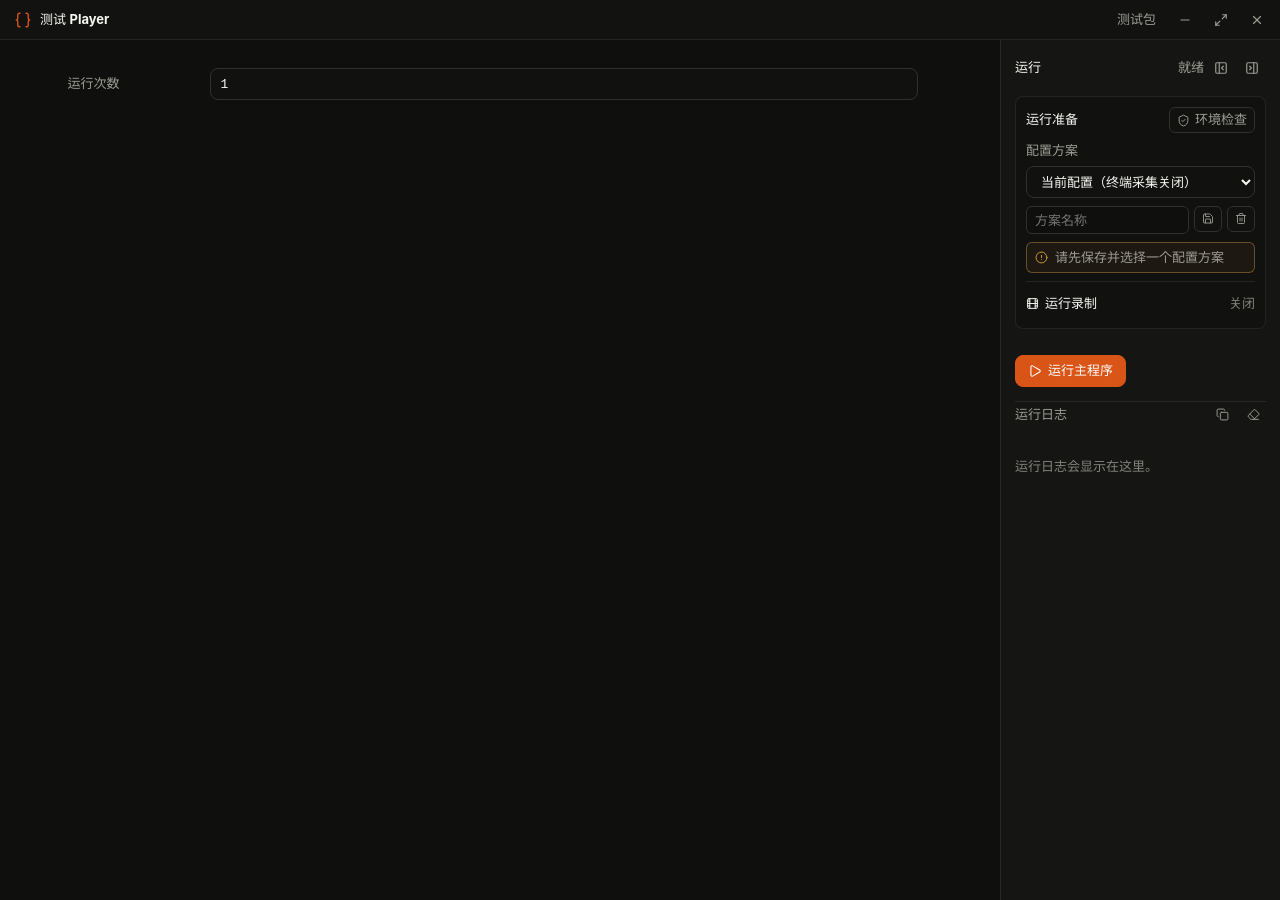
Scenario: VNextPlayerApp error and session lifecycle › 运行失败保留 Player 表单、日志和重试入口
This screenshot has width=1280, height=900.
Click the button "运行主程序".
click(1070, 370)  # box 1015,354 -> 1126,386
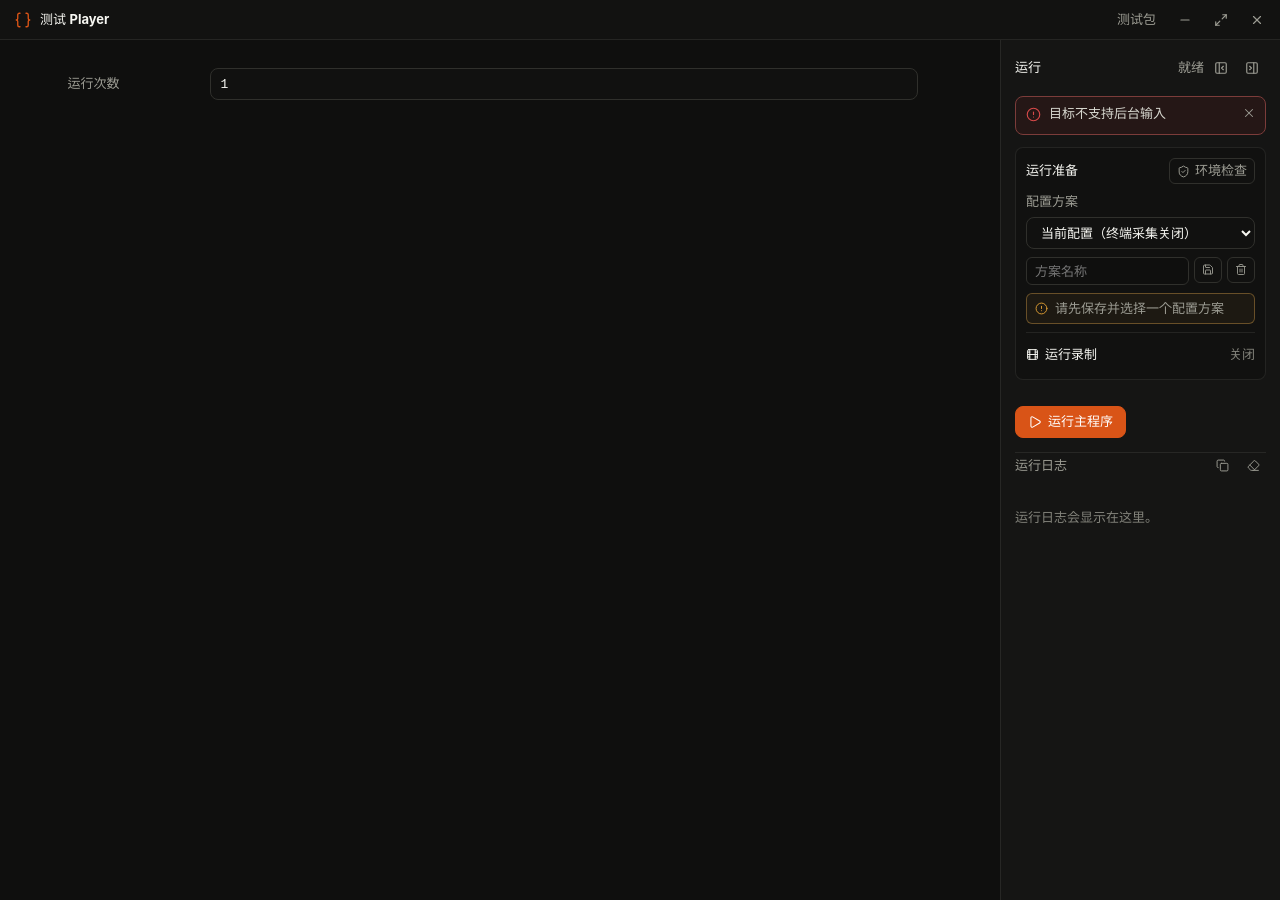
Check: the button "运行主程序" is shown, box 1015,406 -> 1126,438
Check: the message with class "runtime-error" reads "目标不支持后台输入", box 1049,105 -> 1166,121
